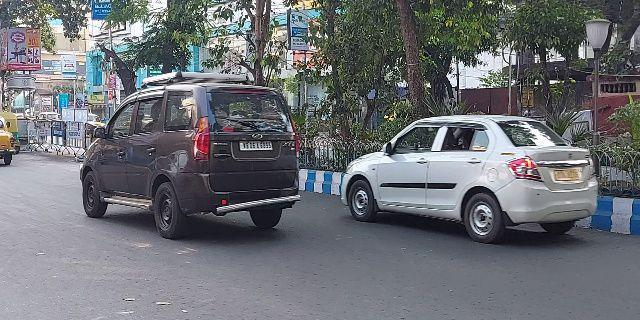Car: (76, 70, 302, 242), (341, 113, 601, 243), (1, 114, 17, 170)
